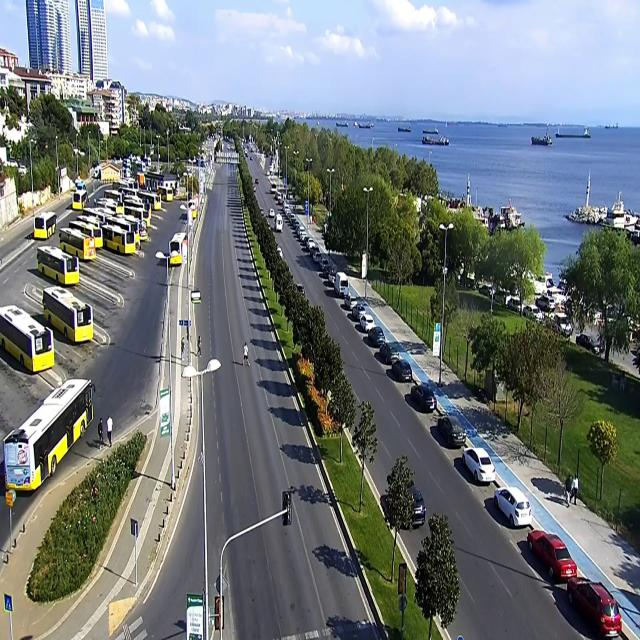bus: (5, 373, 94, 489)
